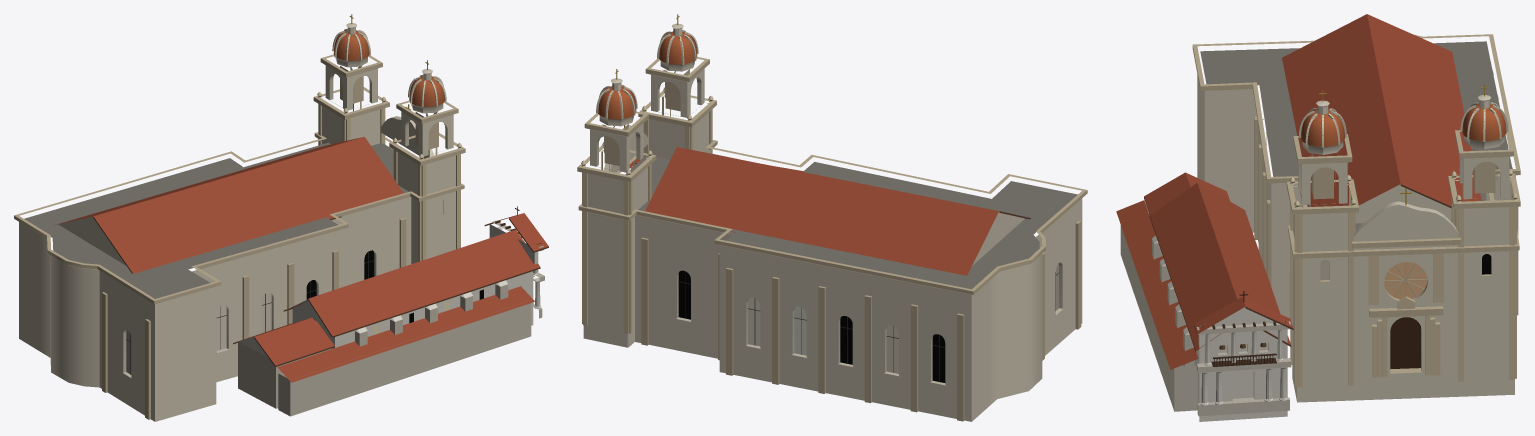
Rendered from missionDolores_lod0.glb.
The picture shows the model from 3 angles, left to right: view 1: azimuth 30°, elevation 25°; view 2: azimuth 150°, elevation 25°; view 3: azimuth 270°, elevation 25°; orthographic projection. The views are drawn at different scales.
Visible parts, largest first — view 1: L0_stucco, L0_rooftile, L0_roof, L0_win, L0_paint, L0_wood, L0_gold; view 2: L0_stucco, L0_rooftile, L0_roof, L0_win, L0_paint, L0_gold, L0_metal; view 3: L0_stucco, L0_rooftile, L0_roof, L0_wood, L0_paint, L0_win, L0_gold.
Part boxes in pixels (x1,y1,x2,y2): L0_stucco: (14, 23, 544, 421); L0_rooftile: (55, 137, 548, 382); L0_roof: (24, 142, 408, 298); L0_win: (126, 250, 483, 374); L0_paint: (333, 30, 444, 106); L0_wood: (93, 206, 548, 366); L0_gold: (332, 14, 446, 110); L0_stucco: (577, 23, 1087, 421); L0_rooftile: (629, 147, 1025, 275); L0_roof: (625, 152, 1077, 289); L0_win: (678, 263, 1058, 382); L0_paint: (598, 31, 697, 119); L0_gold: (596, 14, 698, 127); L0_metal: (678, 271, 1059, 382); L0_stucco: (1120, 34, 1520, 421); L0_rooftile: (1116, 14, 1481, 369); L0_roof: (1200, 41, 1512, 229); L0_wood: (1144, 184, 1451, 368); L0_paint: (1301, 104, 1506, 146); L0_win: (1320, 254, 1491, 299); L0_gold: (1298, 84, 1508, 205).
Bounding box in the file's own units: 67.92 × 37.5 × 45.87.
